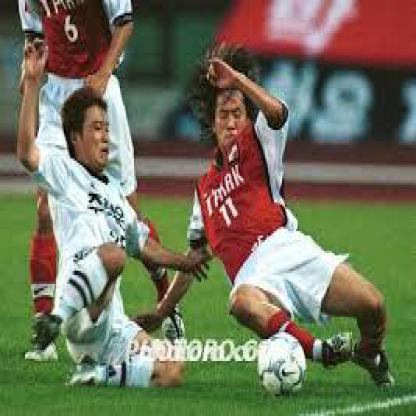Fall_Down: (17, 40, 214, 388)
